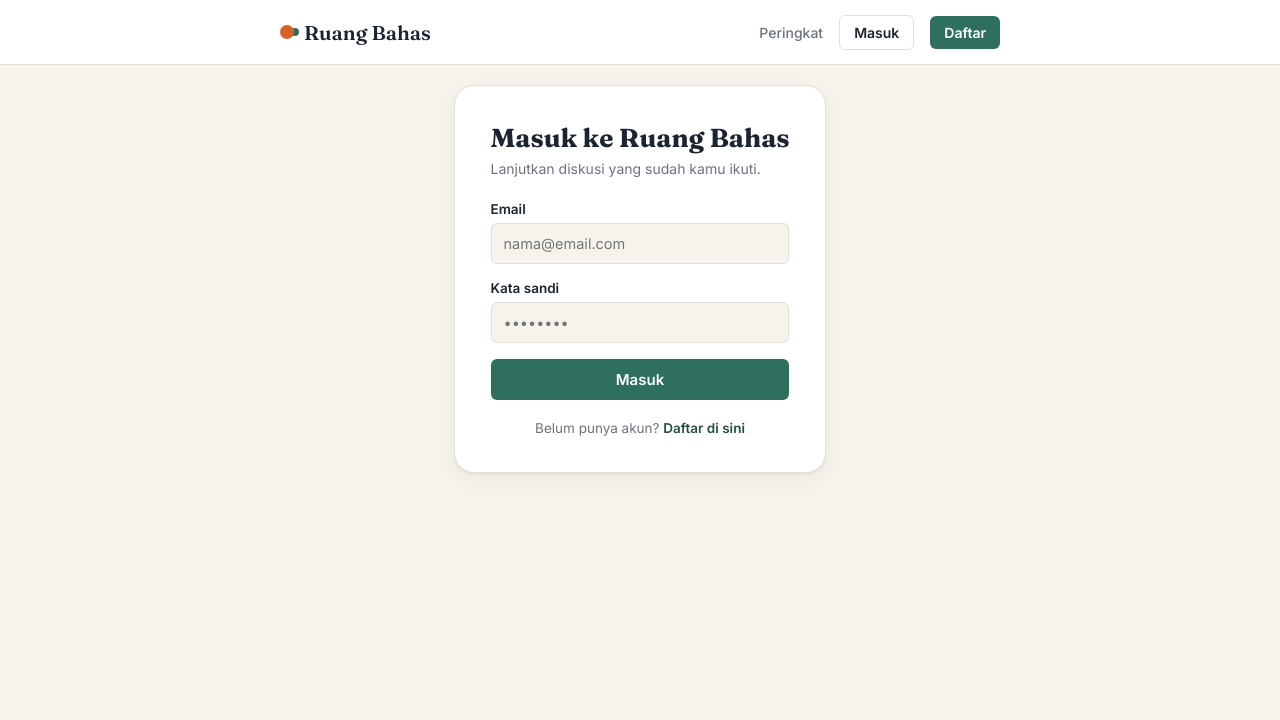
Alur Login Aplikasi Forum Diskusi › 2. menampilkan pesan error ketika login dengan kredensial salah
Type "salah@email.com" into the field named "email".
click(641, 244); type("salah@email.com")  # box left=491, top=223, right=790, bottom=264
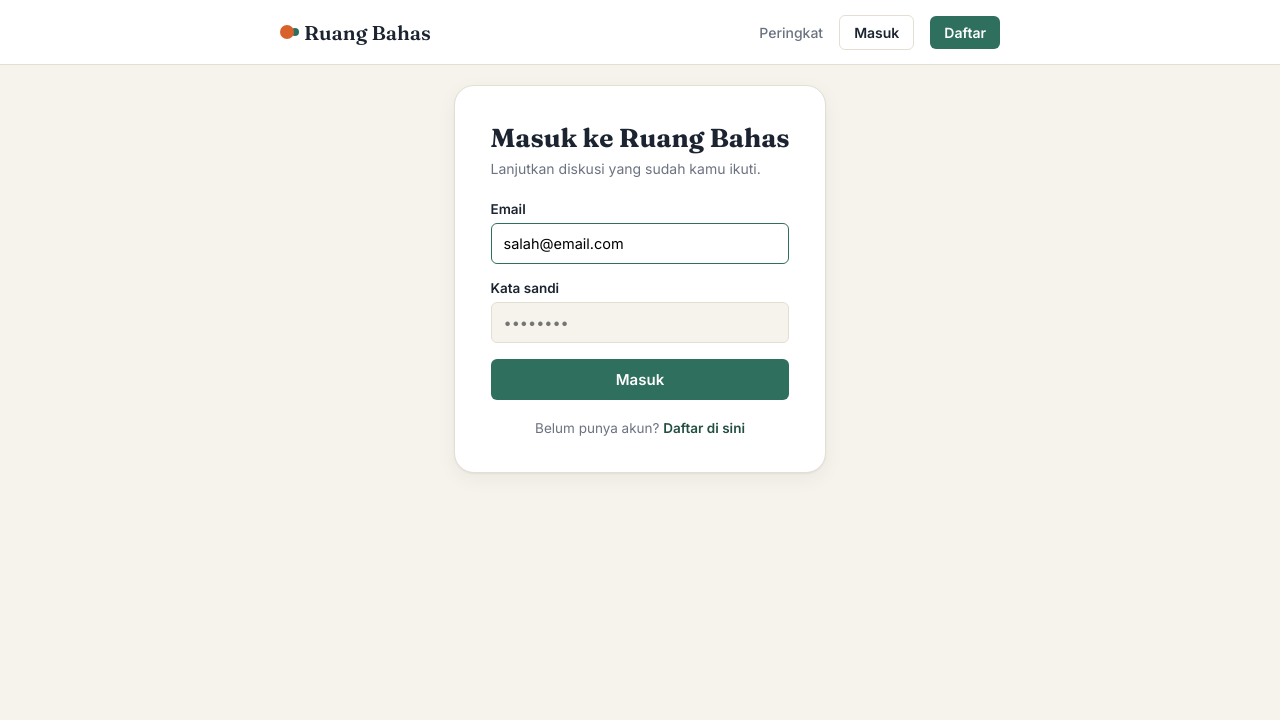
Type "passwordsalah" into the password field named "password".
click(641, 323); type("passwordsalah")  # box left=491, top=302, right=790, bottom=343
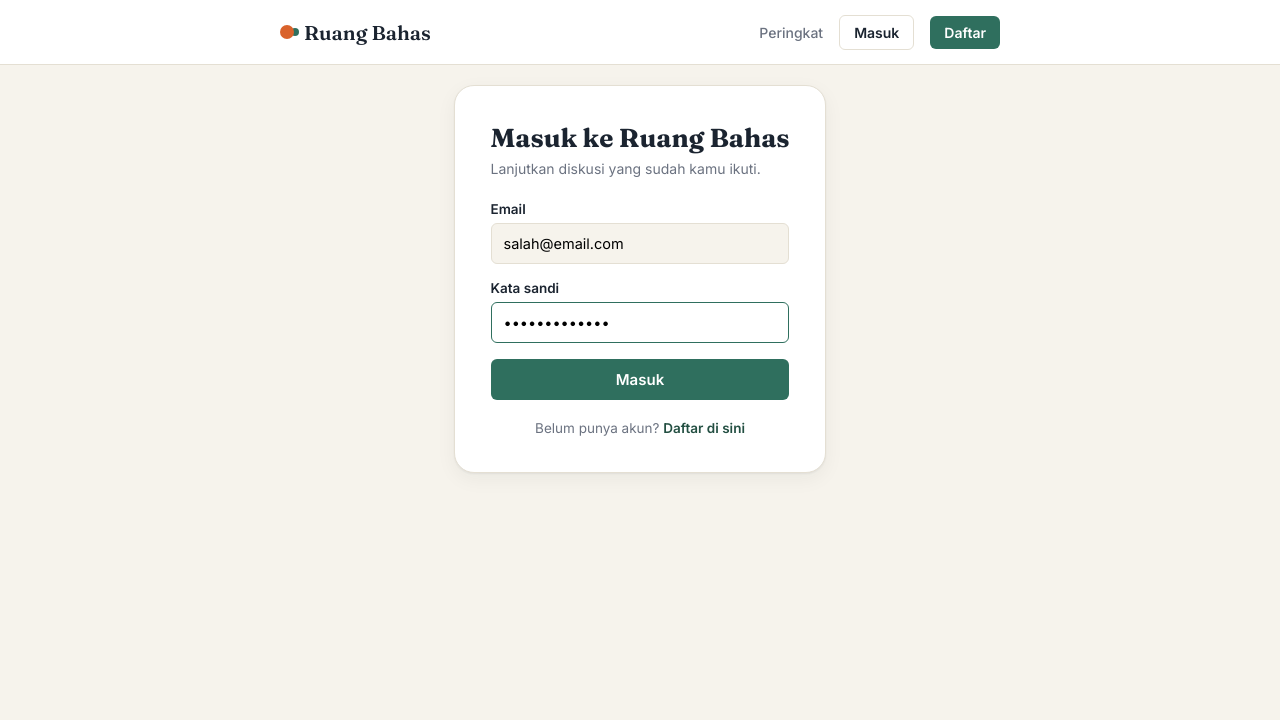
Click the submit button.
click(641, 380)  # box left=491, top=359, right=790, bottom=400
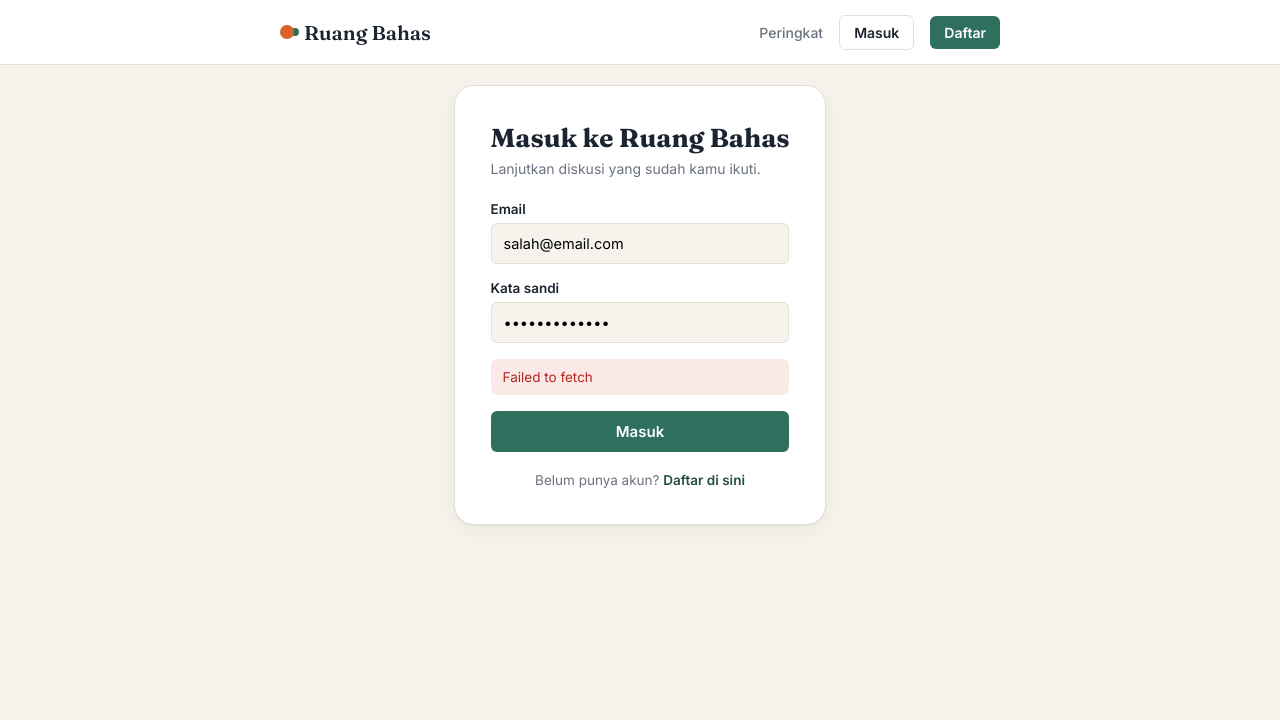
Expected: the text "Failed to fetch" is shown, left=490, top=359, right=790, bottom=395
